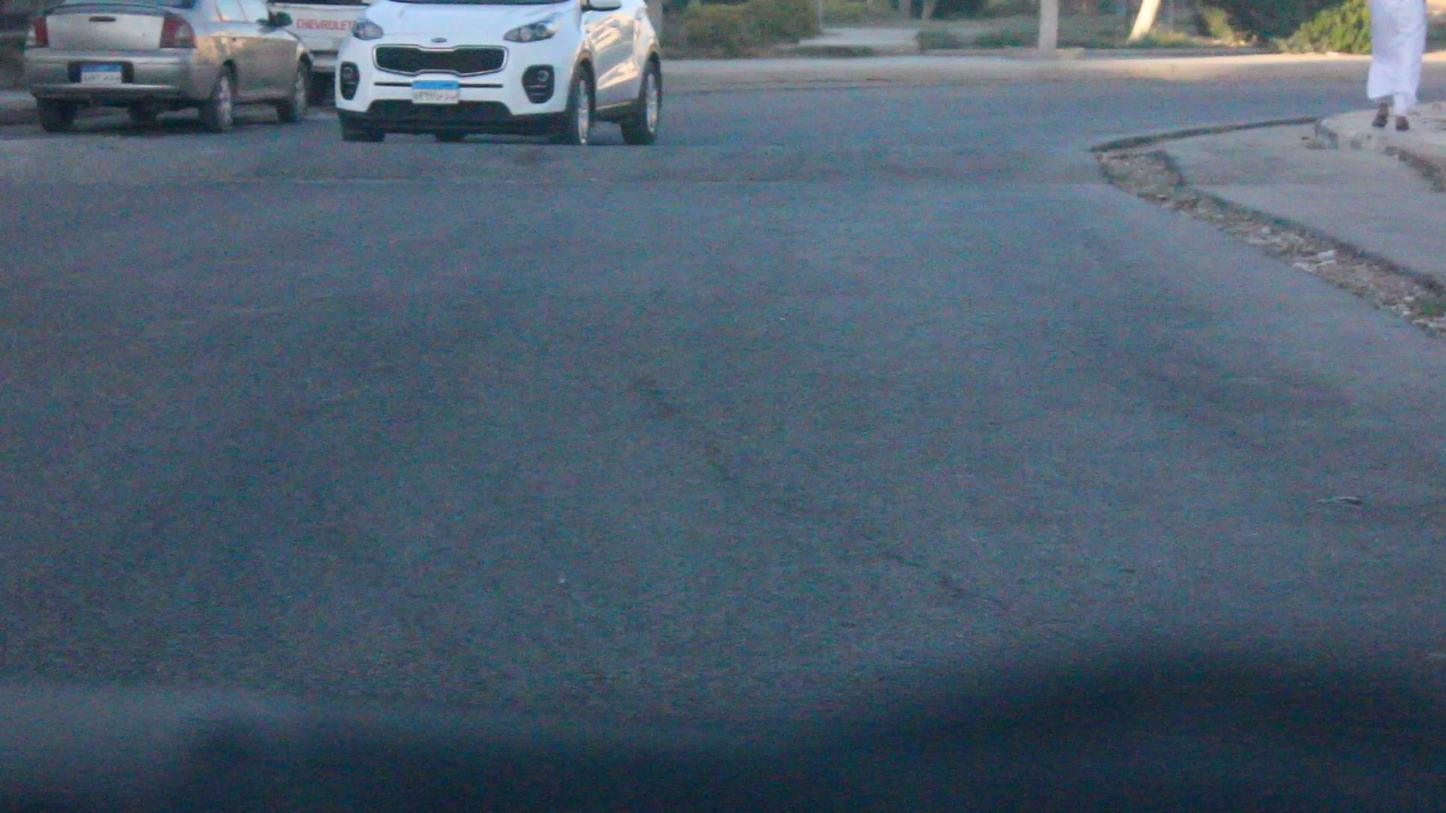Bump: (4, 122, 1113, 179)
